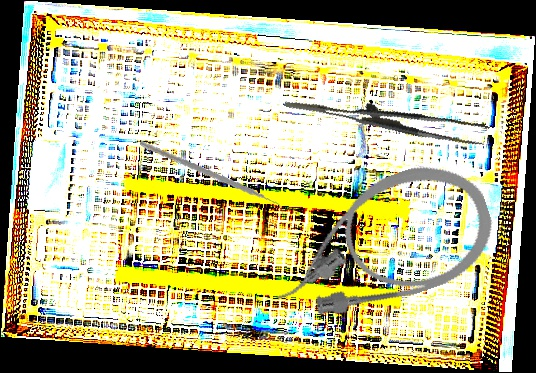Cannula: (251, 149, 507, 337)
Chopper: (139, 122, 285, 238)
Tissue Forceps: (284, 67, 490, 166)
